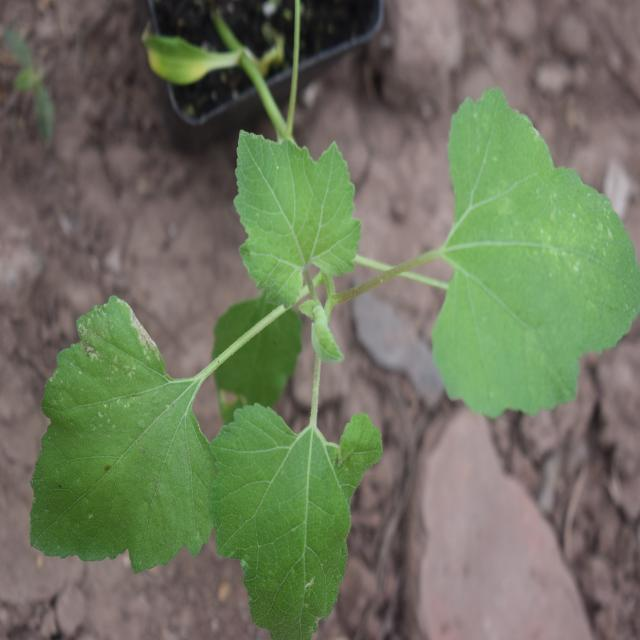cocklebur: (36, 120, 625, 577)
